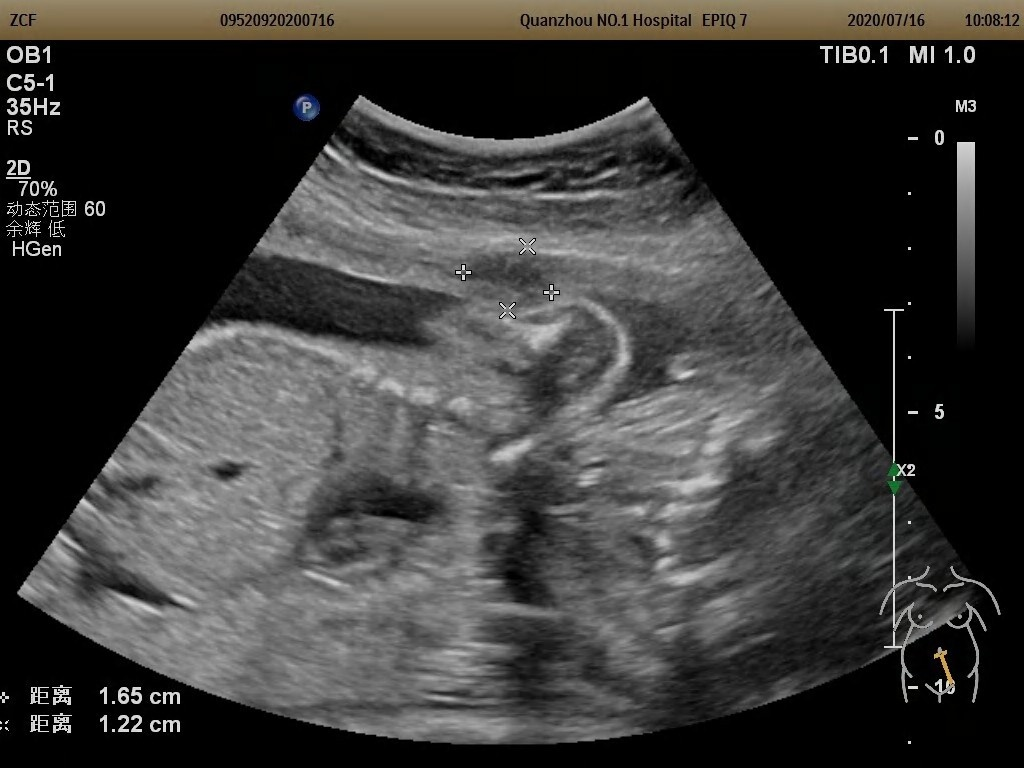肌瘤: (463, 252, 547, 306)
